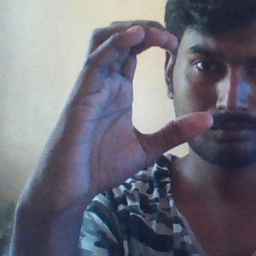C: (79, 18, 215, 153)
